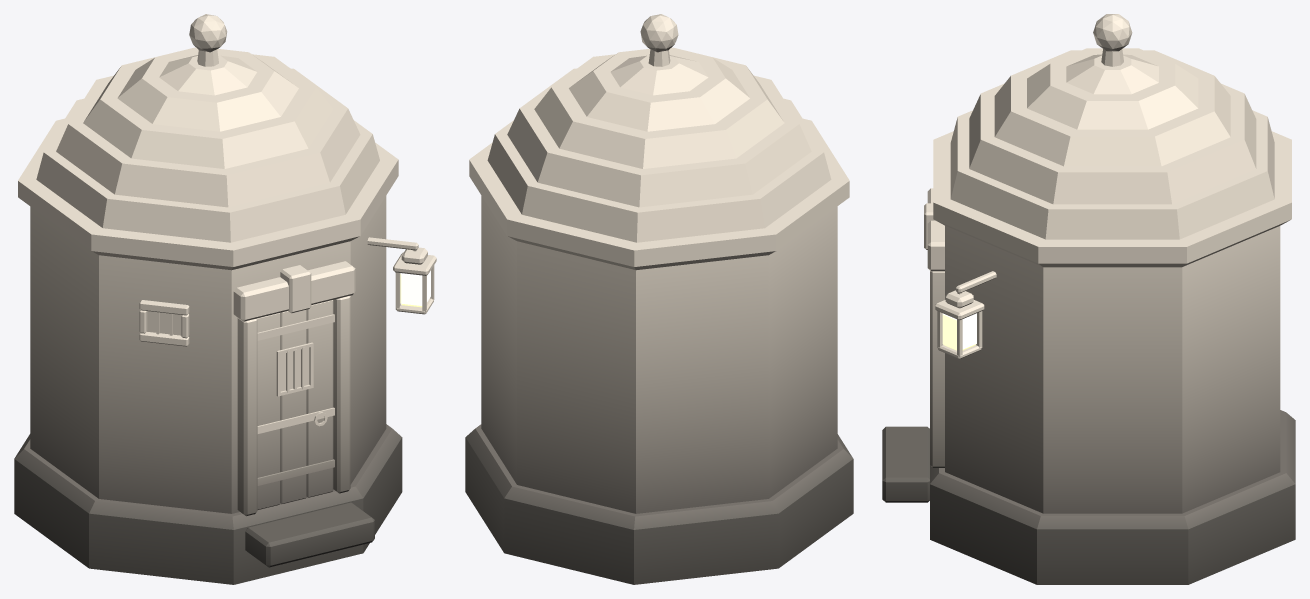
File: SM_VK_Entrance_LockUp.fbx
The picture shows the model from 3 angles, left to right: view 1: azimuth 30°, elevation 25°; view 2: azimuth 150°, elevation 25°; view 3: azimuth 270°, elevation 25°; orthographic projection.
Parts seen in each view (by area): view 1: SM_VK_Entrance_LockUp.001; view 2: SM_VK_Entrance_LockUp.001; view 3: SM_VK_Entrance_LockUp.001.
Boxes of the visible parts, x1,y1,x2,y2 form: SM_VK_Entrance_LockUp.001: [14, 14, 436, 584]; SM_VK_Entrance_LockUp.001: [465, 14, 853, 584]; SM_VK_Entrance_LockUp.001: [882, 14, 1295, 584].
Size of the model in its own units: 3.16 by 4.7 by 3.57.
